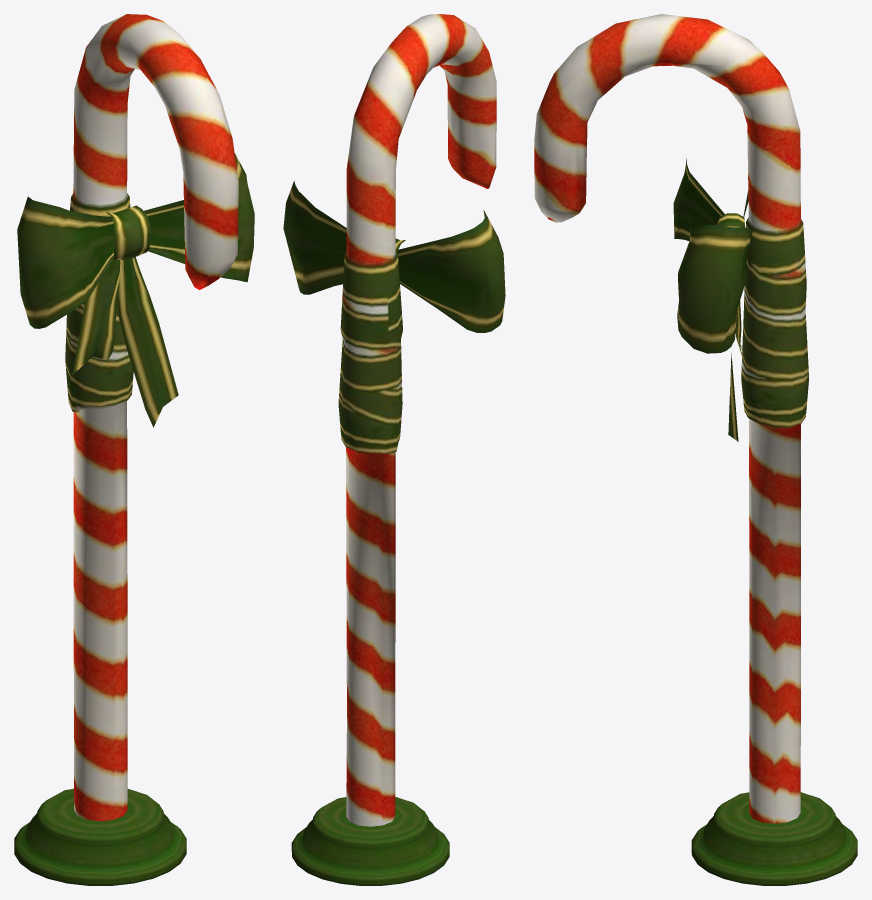
The model's file is giant_candy_cane.glb.
3 renders of one model, left to right at view 1: azimuth 30°, elevation 25°; view 2: azimuth 150°, elevation 25°; view 3: azimuth 270°, elevation 25°, orthographic. The views are drawn at different scales.
Visible parts, largest first — view 1: giant_candy_cane; view 2: giant_candy_cane; view 3: giant_candy_cane.
Boxes of the visible parts, <box> form: giant_candy_cane: <box>14,14,254,885</box>; giant_candy_cane: <box>283,14,505,885</box>; giant_candy_cane: <box>534,14,857,885</box>.
Size of the model in its own units: 0.7684 by 2.75 by 0.9664.
1 material, 1 textured.
